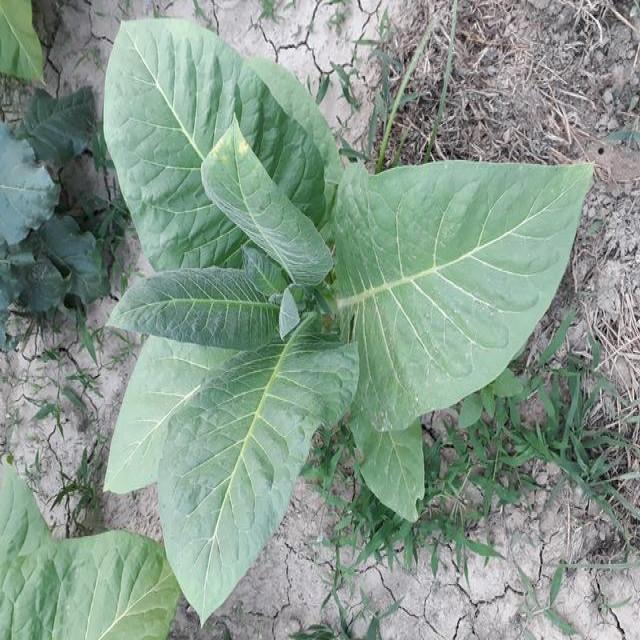crop: (100, 19, 596, 635), (0, 466, 171, 640), (0, 0, 51, 80)
